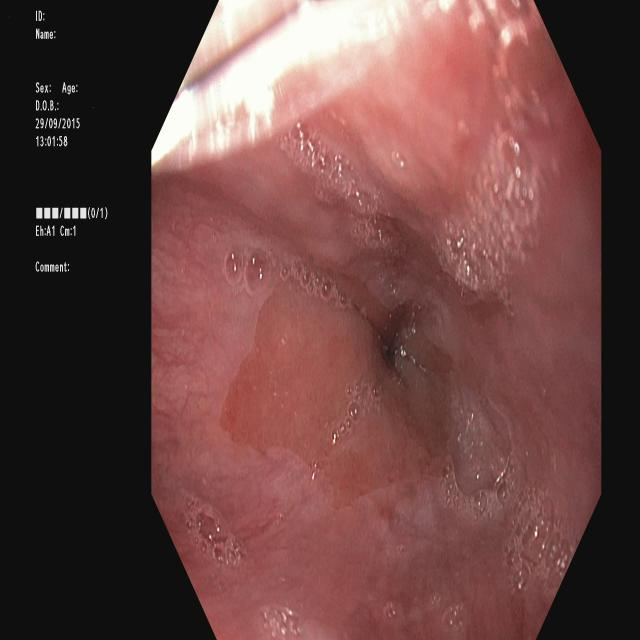Normal-Z-Line: (213, 244, 460, 506)
